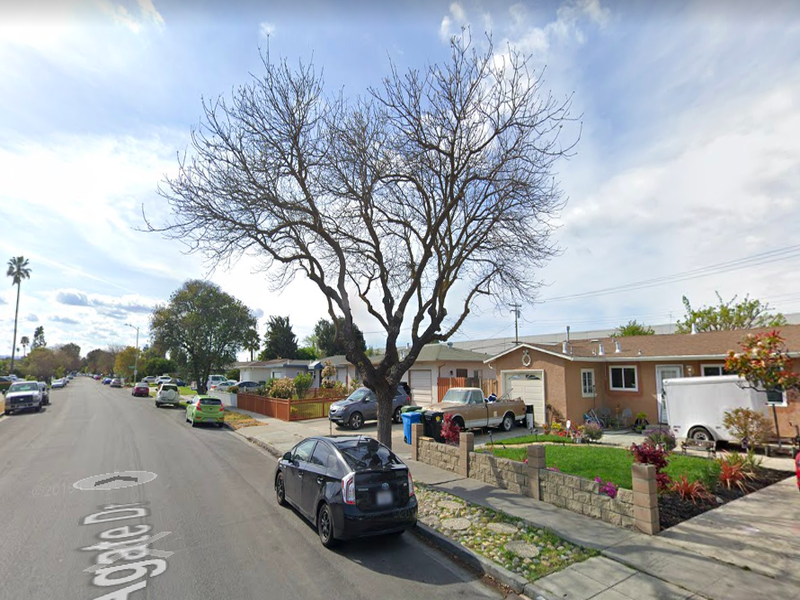tree: (132, 25, 584, 483)
